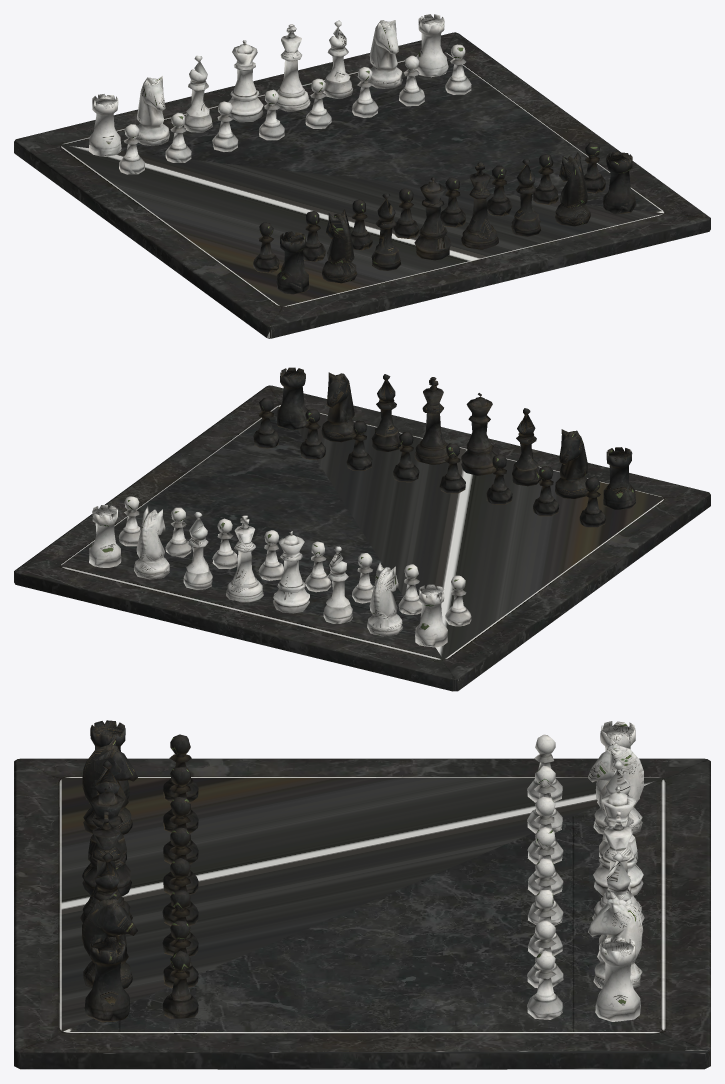
Rendered from chess_set.glb.
3 views of the same model, one above another, from view 1: azimuth 30°, elevation 25°; view 2: azimuth 150°, elevation 25°; view 3: azimuth 270°, elevation 25° (orthographic). The views are drawn at different scales.
Visible parts, largest first — view 1: board, piece_rook_black_01, piece_rook_white_01, piece_king_black, piece_king_white; view 2: board, piece_rook_black_01, piece_rook_white_01, piece_king_white, piece_king_black; view 3: board, piece_rook_black_01, piece_rook_white_01, piece_king_black, piece_king_white.
Part boxes in pixels (x1,y1,x2,y2): board: [14, 32, 710, 338]; piece_rook_black_01: [253, 143, 636, 294]; piece_rook_white_01: [89, 14, 471, 174]; piece_king_black: [461, 162, 498, 249]; piece_king_white: [275, 24, 310, 111]; board: [14, 385, 710, 691]; piece_rook_black_01: [253, 367, 635, 527]; piece_rook_white_01: [89, 496, 471, 647]; piece_king_white: [226, 515, 263, 602]; piece_king_black: [414, 377, 448, 464]; board: [14, 758, 710, 1069]; piece_rook_black_01: [81, 720, 198, 1022]; piece_rook_white_01: [527, 721, 643, 1021]; piece_king_black: [80, 811, 132, 922]; piece_king_white: [592, 811, 644, 922].
Bounding box in the file's own units: 0.552 × 0.1115 × 0.552.
3 materials, 3 textured.
